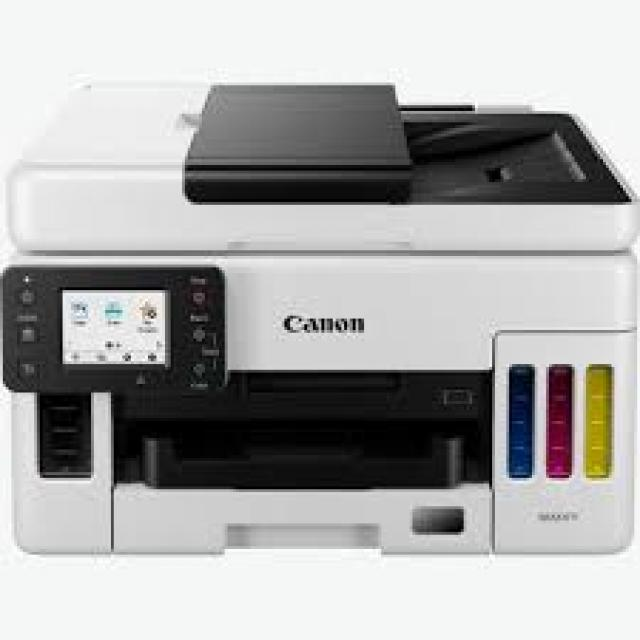printer: (0, 49, 640, 608)
